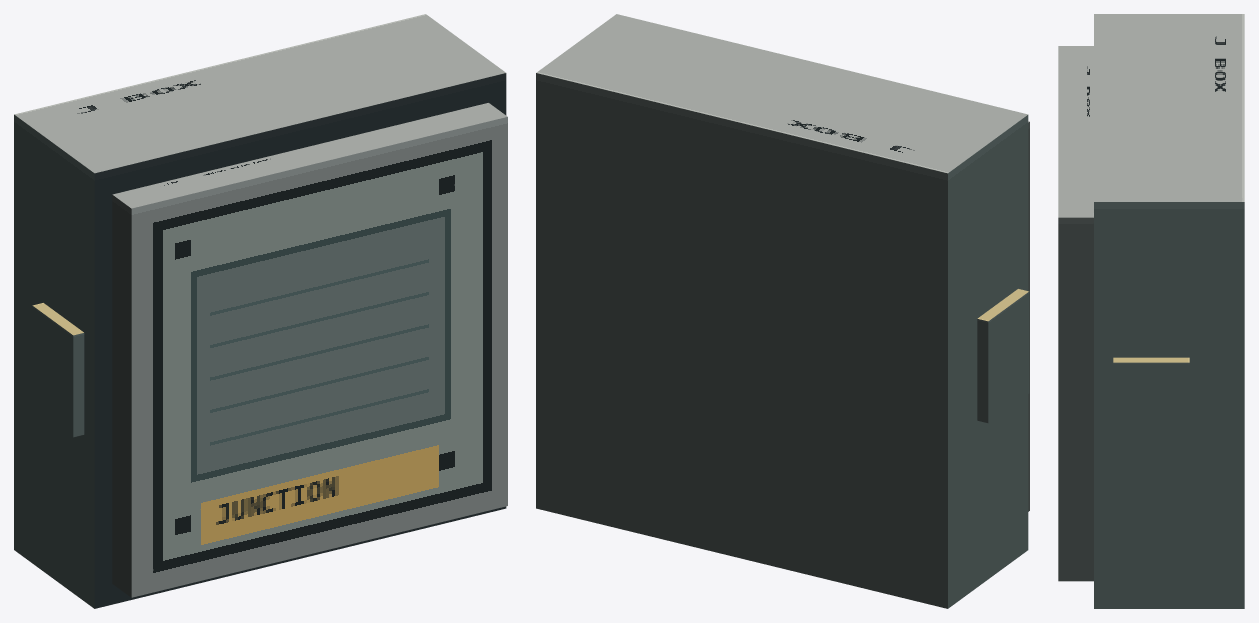
The model's file is caja_conexiones.glb.
3 views of the same model, side by side, from view 1: azimuth 30°, elevation 25°; view 2: azimuth 150°, elevation 25°; view 3: azimuth 270°, elevation 25° (orthographic). The views are drawn at different scales.
Parts seen in each view (by area): view 1: ELECTRICO; view 2: ELECTRICO; view 3: ELECTRICO.
Part boxes in pixels (<box>): ELECTRICO: <box>14,14,507,608</box>; ELECTRICO: <box>536,14,1029,608</box>; ELECTRICO: <box>1058,14,1244,608</box>.
Bounding box in the file's own units: 0.2987 × 0.2865 × 0.1189.
1 material, 1 textured.
